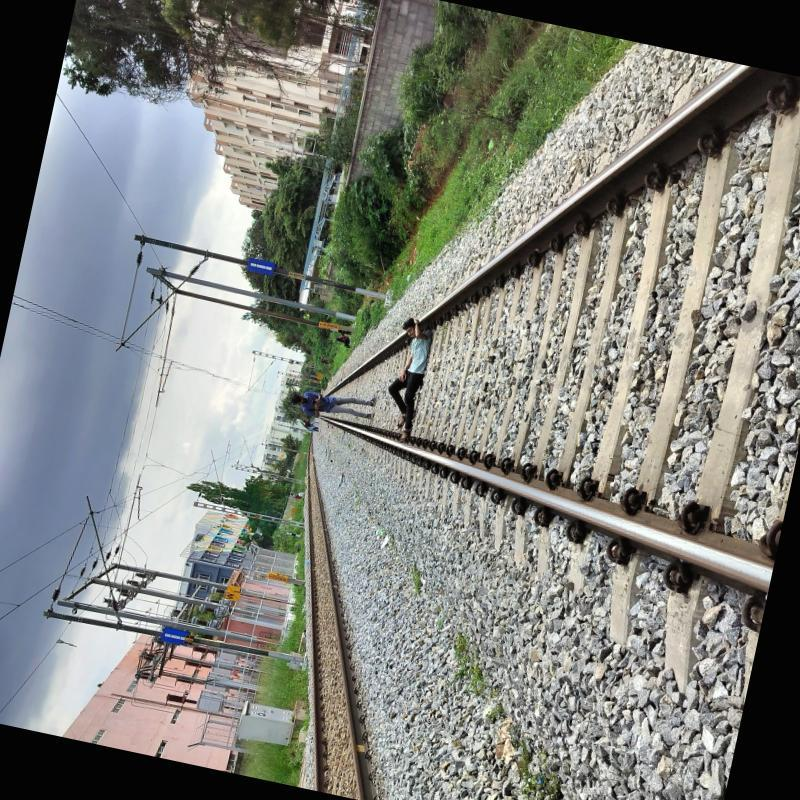sleeping: (380, 308, 439, 450)
